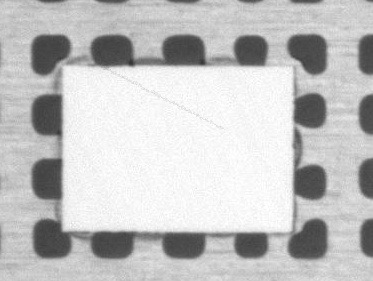DIE_CRACK: (137, 50, 297, 97)
